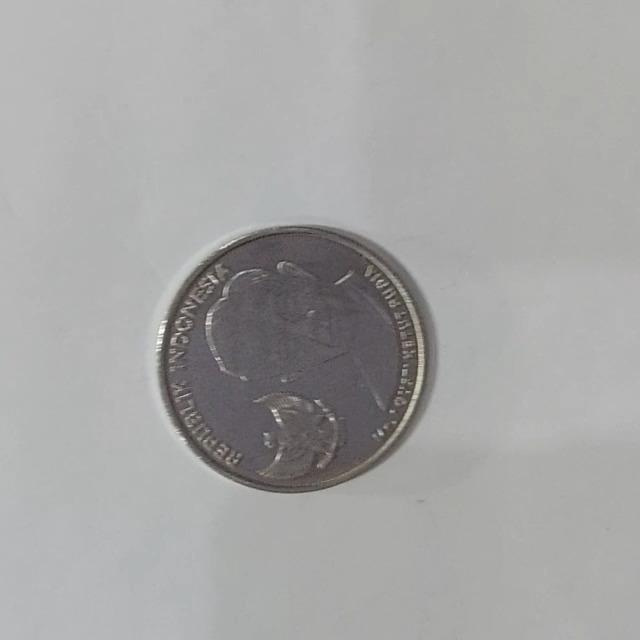Rp100: (154, 221, 429, 493)
